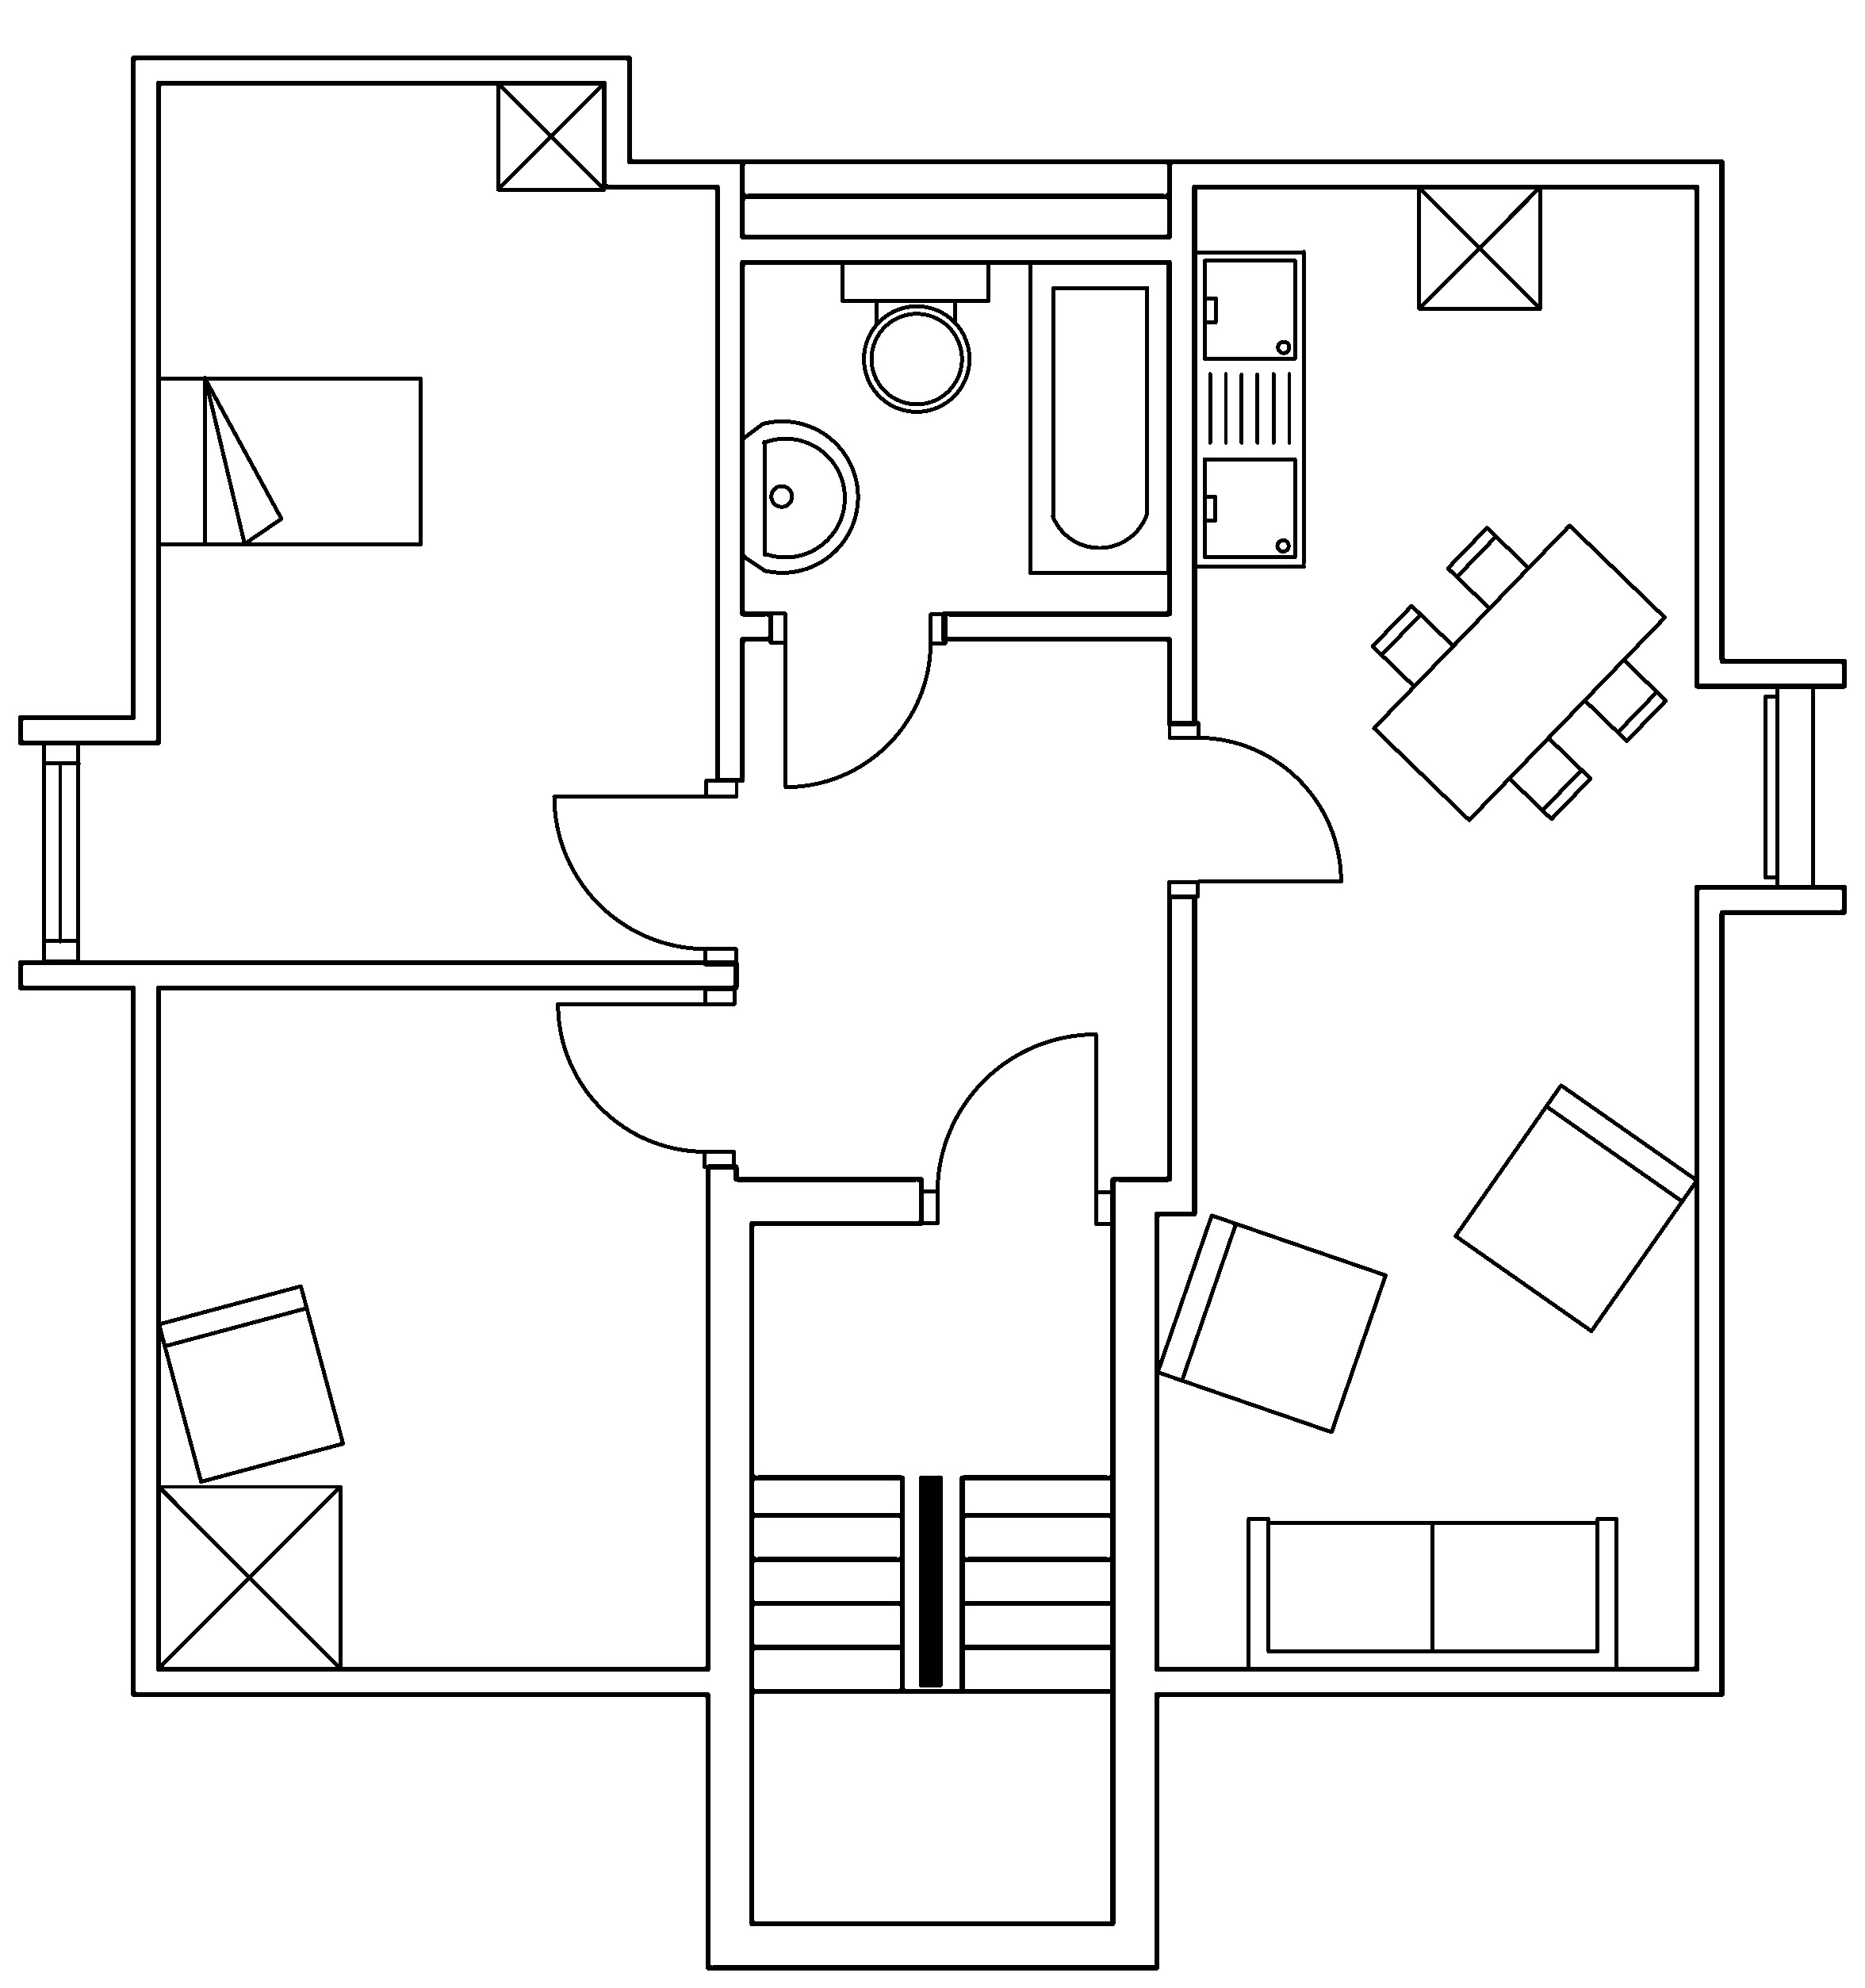bed: (154, 375, 424, 547)
coffee_table: (154, 1481, 342, 1671), (1416, 182, 1542, 310), (494, 79, 606, 191)
dining_table: (1369, 522, 1669, 822)
large_sink: (840, 258, 990, 412)
large_sofa: (1245, 1515, 1620, 1672)
small_sink: (740, 419, 859, 573)
small_sofa: (1451, 1082, 1698, 1332), (1153, 1211, 1388, 1434), (156, 1282, 345, 1483)
tub: (1027, 258, 1171, 575)
twin_sink: (1192, 247, 1308, 570)
